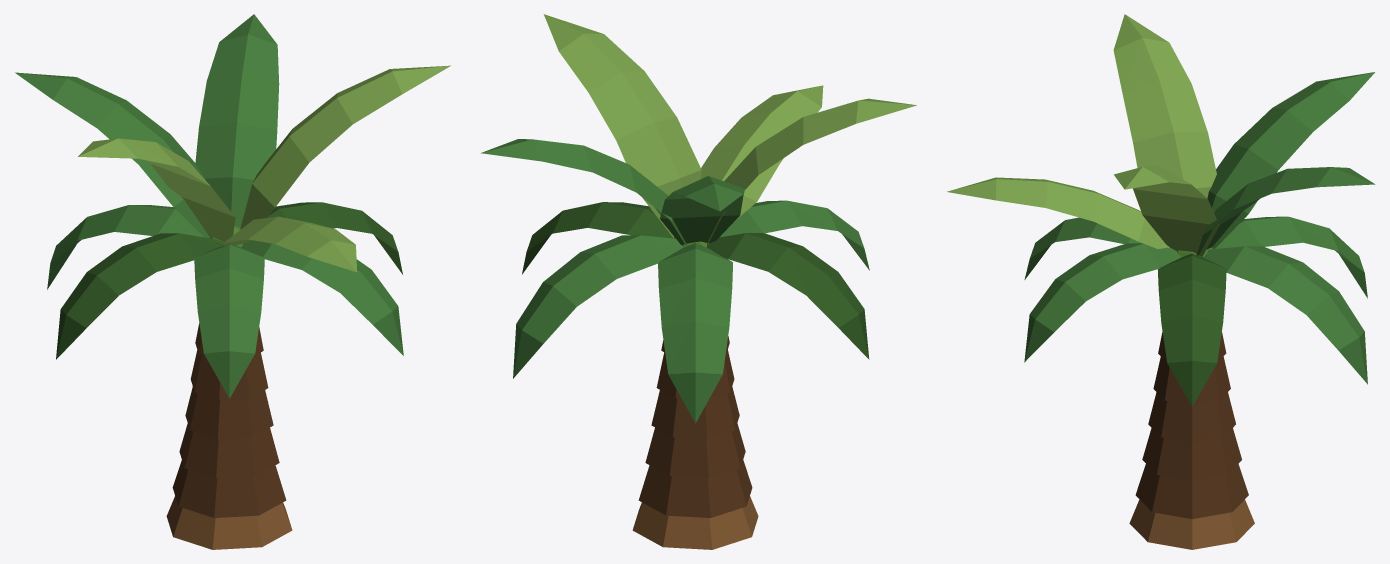
Rendered from palm-sapling-ef7ae4.glb.
3 renders of one model, left to right at view 1: azimuth 30°, elevation 25°; view 2: azimuth 150°, elevation 25°; view 3: azimuth 270°, elevation 25°, orthographic. The views are drawn at different scales.
Parts seen in each view (by area): view 1: palm-sapling-mesh; view 2: palm-sapling-mesh; view 3: palm-sapling-mesh.
Part boxes in pixels (x1,y1,x2,y2): palm-sapling-mesh: (15,14,450,549); palm-sapling-mesh: (480,14,916,549); palm-sapling-mesh: (947,14,1375,549).
Bounding box in the file's own units: 1.57 × 1.78 × 1.62.
